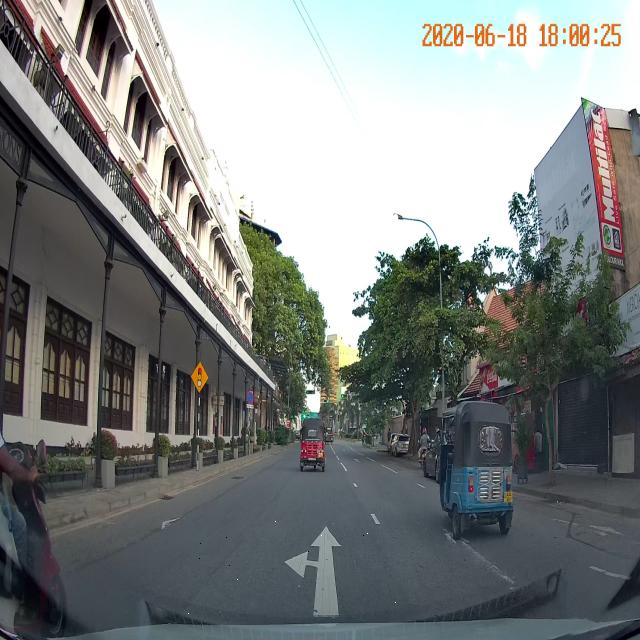forward_lft: (184, 502, 438, 616)
